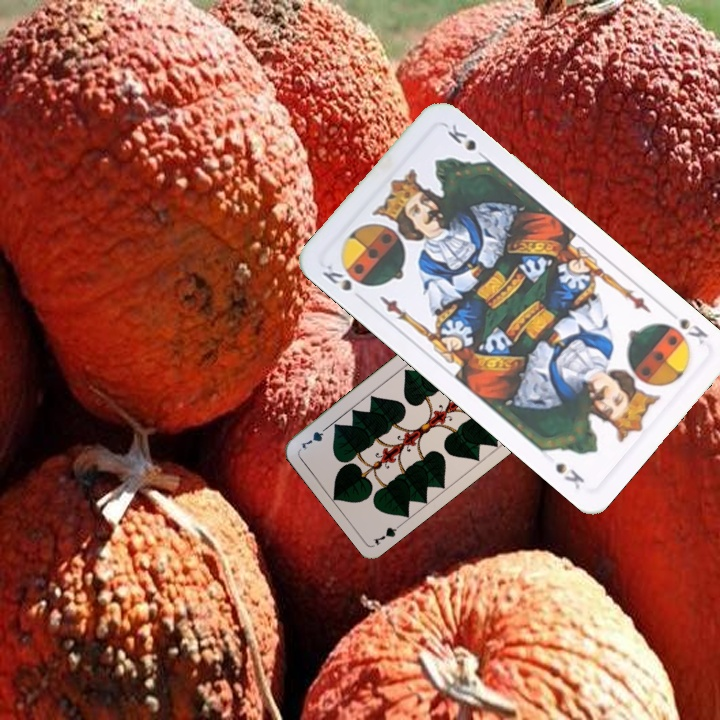G7: (369, 518, 407, 548)
SK: (318, 260, 370, 294), (675, 314, 711, 350)
